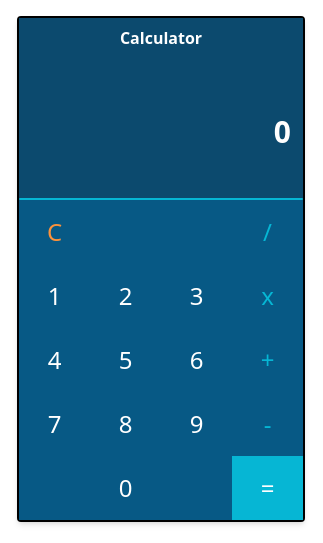
Scenario: Teste do componente App › Deve subtrair 23 - 67 e o resultado deverá mostrar -44 corretamente
Step 1. Click the text with test id "2" → point(125, 296), box [119,279,132,312]
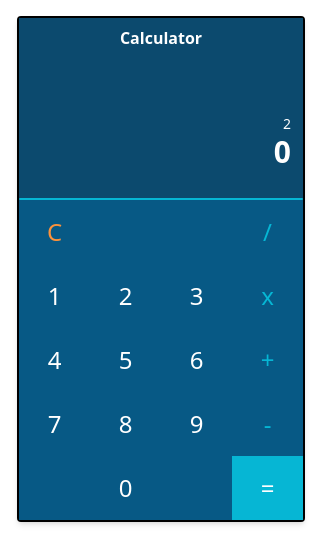
Step 2. Click the text with test id "3" → point(196, 296), box [190,279,203,312]
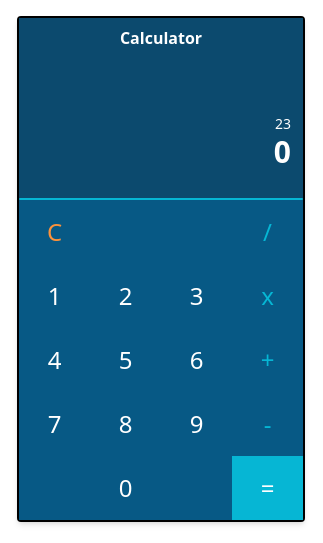
Step 3. Click the text with test id "-" → point(267, 424), box [264,407,271,440]
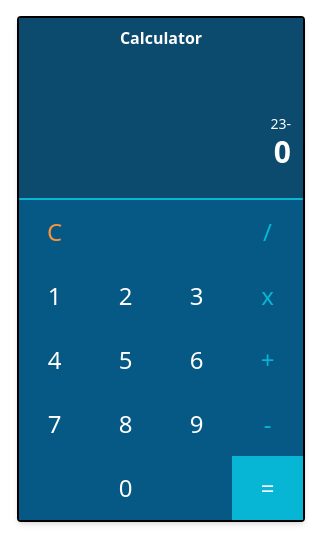
Step 4. Click the text with test id "6" → point(196, 360), box [190,343,203,376]
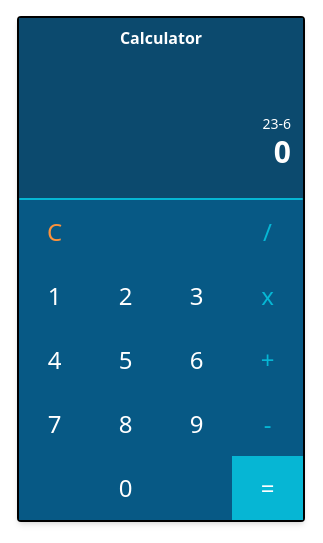
Step 5. Click the text with test id "7" → point(54, 424), box [48,407,61,440]
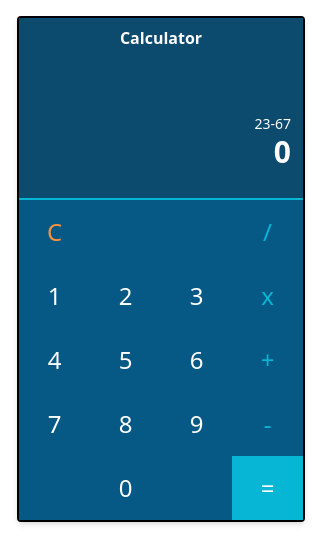
Step 6. Click the text with test id "=" → point(268, 488), box [232,456,303,520]
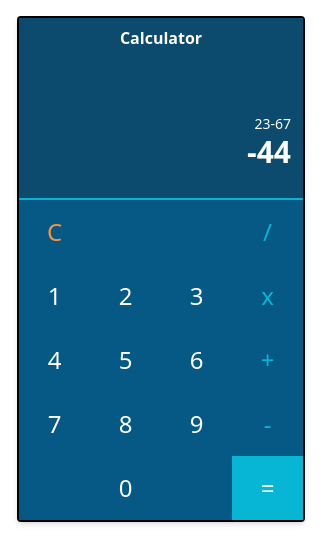
Check: the text with test id "result" reads "-44", box [247,131,291,172]
